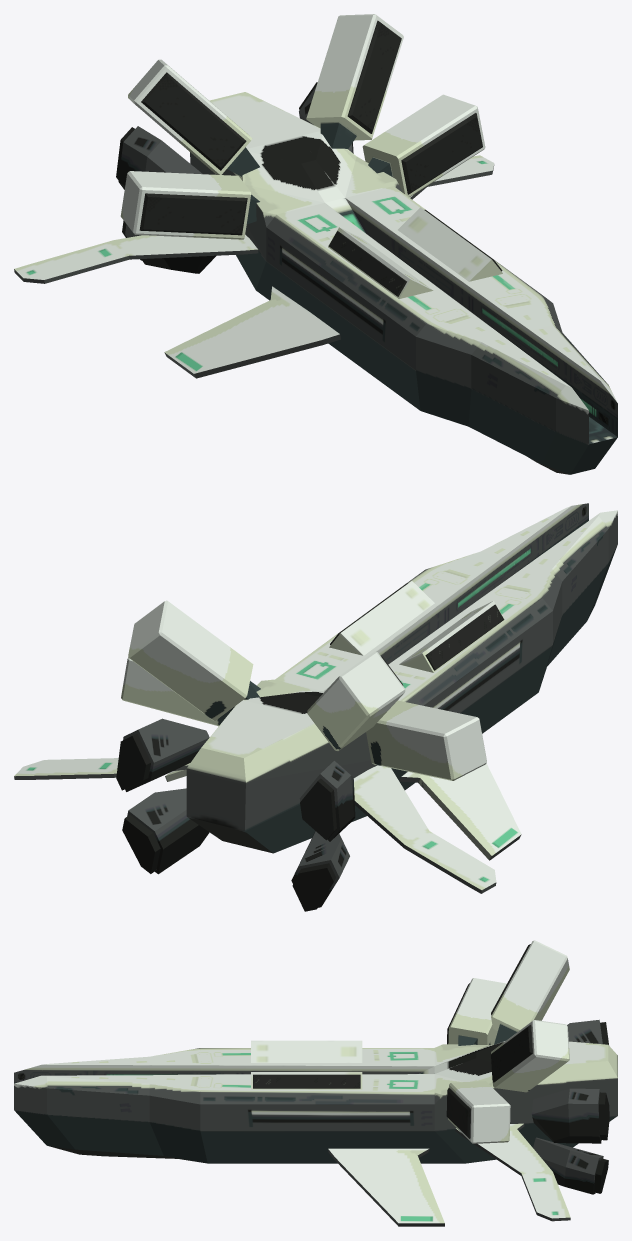
Rendered from QUAZAR SHIP.fbx.
3 views of the same model, one above another, from view 1: azimuth 30°, elevation 25°; view 2: azimuth 150°, elevation 25°; view 3: azimuth 270°, elevation 25° (orthographic). The views are drawn at different scales.
Visible parts, largest first — view 1: QUAZAR_SHIP; view 2: QUAZAR_SHIP; view 3: QUAZAR_SHIP.
Part boxes in pixels (<box>): QUAZAR_SHIP: <box>14,14,617,474</box>; QUAZAR_SHIP: <box>14,503,617,911</box>; QUAZAR_SHIP: <box>14,940,617,1226</box>.
Bounding box in the file's own units: 2131 × 1021 × 3020.
1 material, 1 textured.
